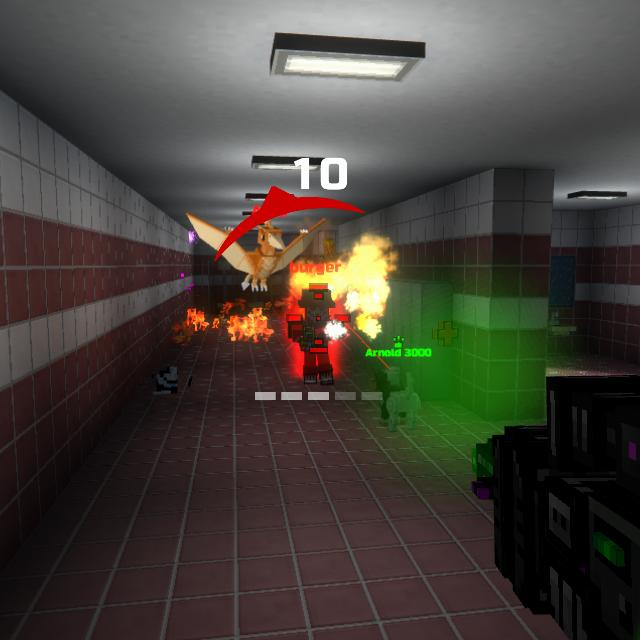Enemy: (290, 289, 348, 386)
